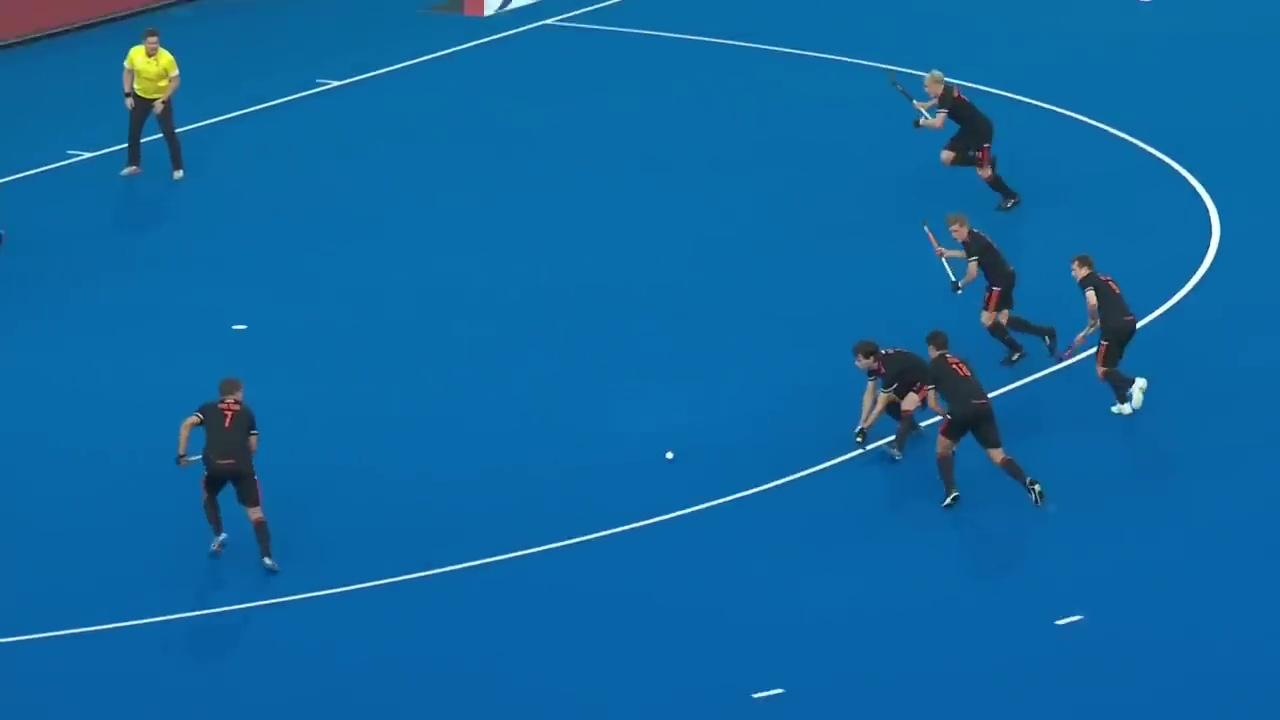ball: (656, 445, 687, 469)
